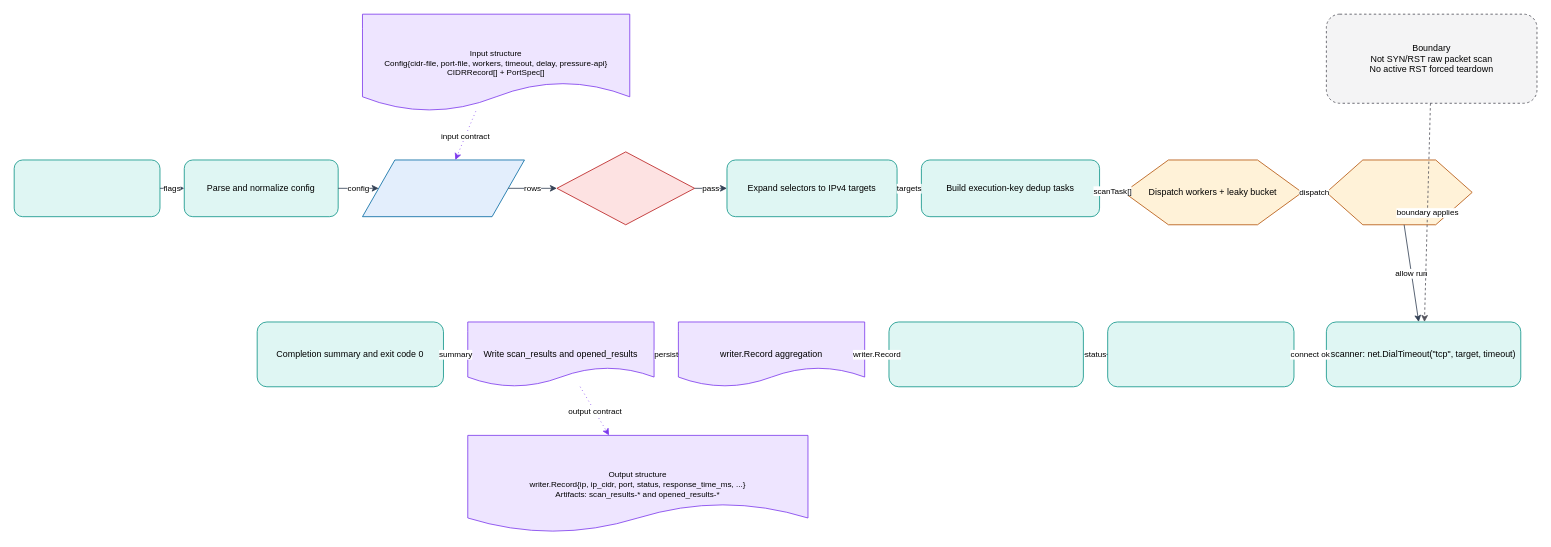
The diagram is 1551 pixels wide and 547 high, and some of its shapes have lost their labels. The shapes that lost their labels are listed below. From the top down, each one's box as (x1, y1, x2, y2) in pixels, then its label:
(13, 159, 160, 217): CLI: run validate or scan
(362, 159, 524, 217): Read CIDR and Port inputs
(556, 151, 695, 225): Validation PASS schema + overlap + containment
(1326, 159, 1472, 225): Pressure gate = RUN
(888, 321, 1083, 387): Result map: open | close | close(timeout)
(1107, 321, 1294, 387): Connected then conn.Close()
